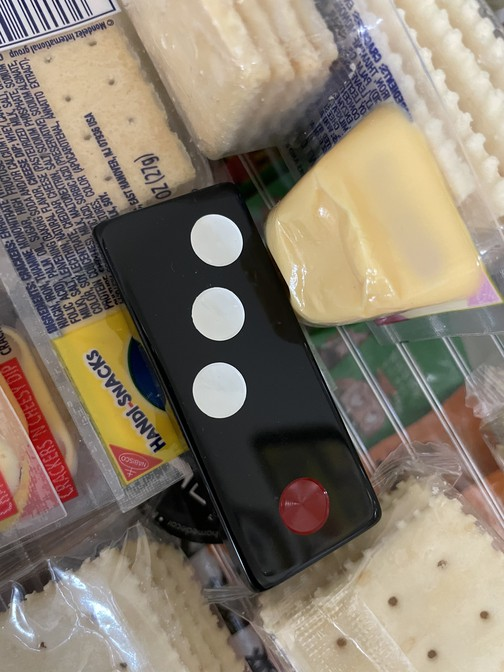goose: (90, 183, 384, 591)
